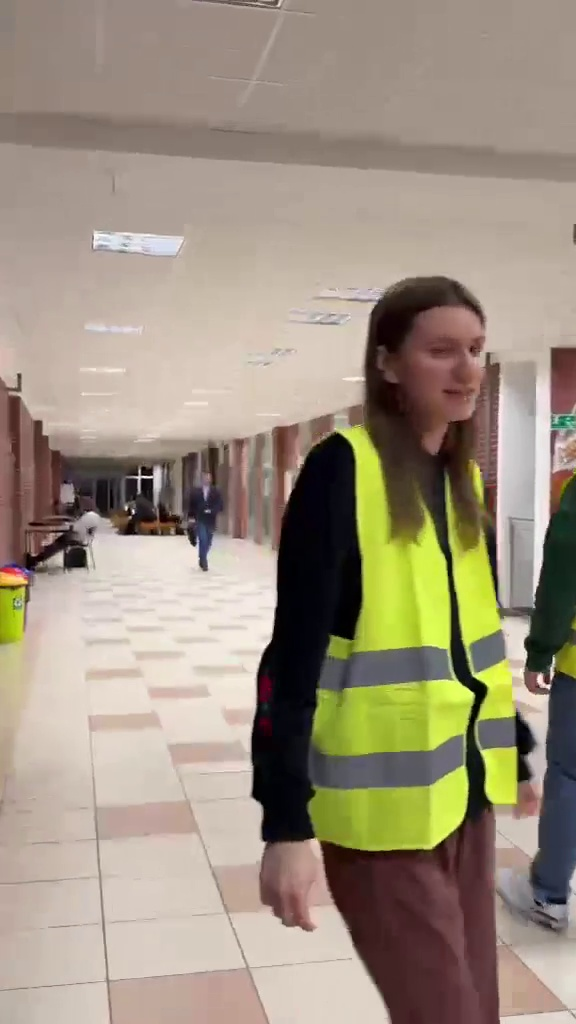no vest: (26, 502, 103, 567), (178, 468, 223, 570)
vest: (248, 268, 520, 1023)
